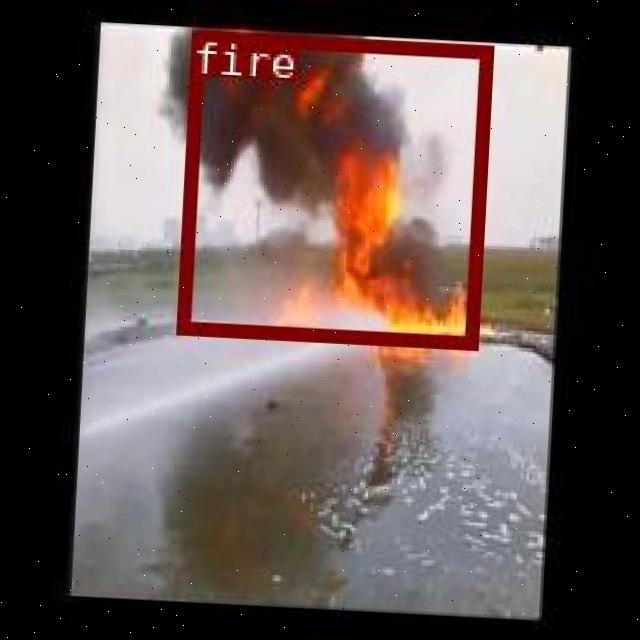fire: (176, 28, 491, 347)
